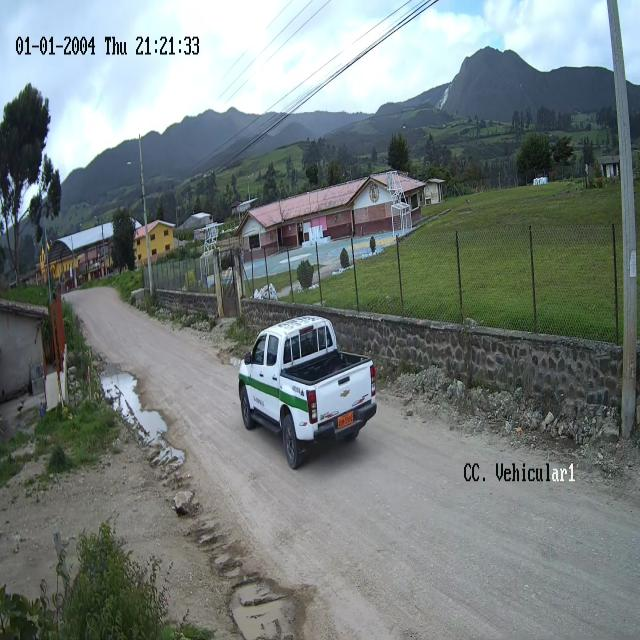CMT: (233, 315, 374, 469)
